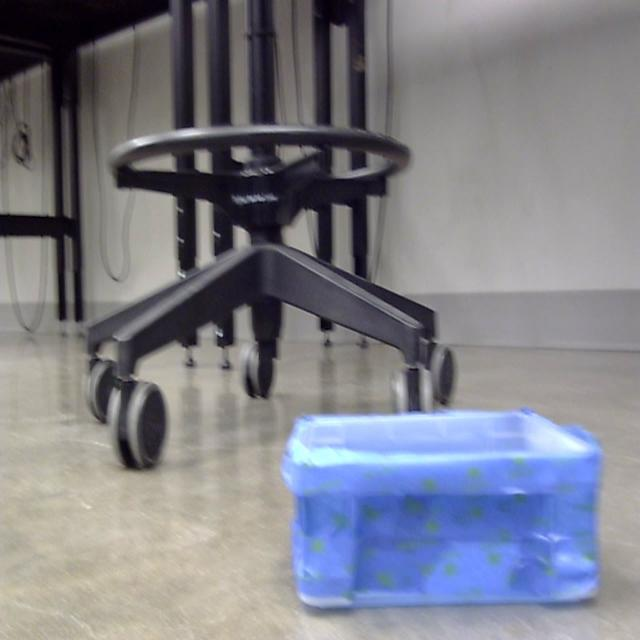bucket: (280, 410, 606, 615)
